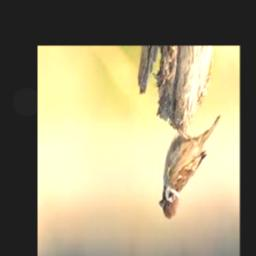Sparrow: (159, 114, 220, 219)
